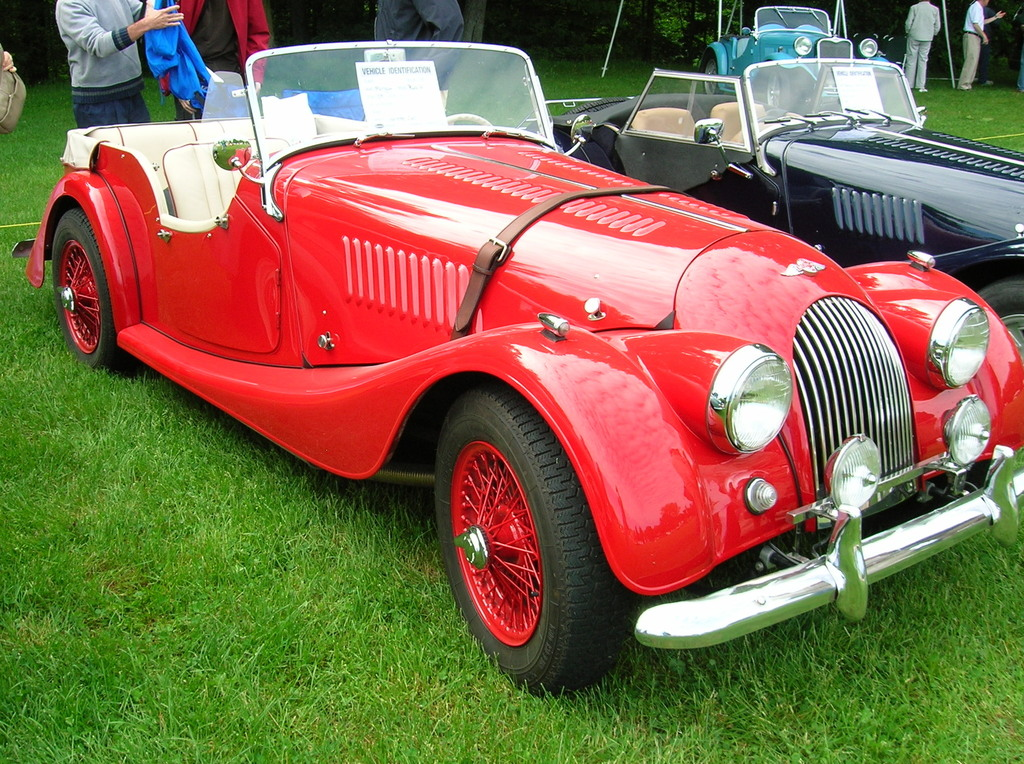Person: (0, 0, 1024, 133)
